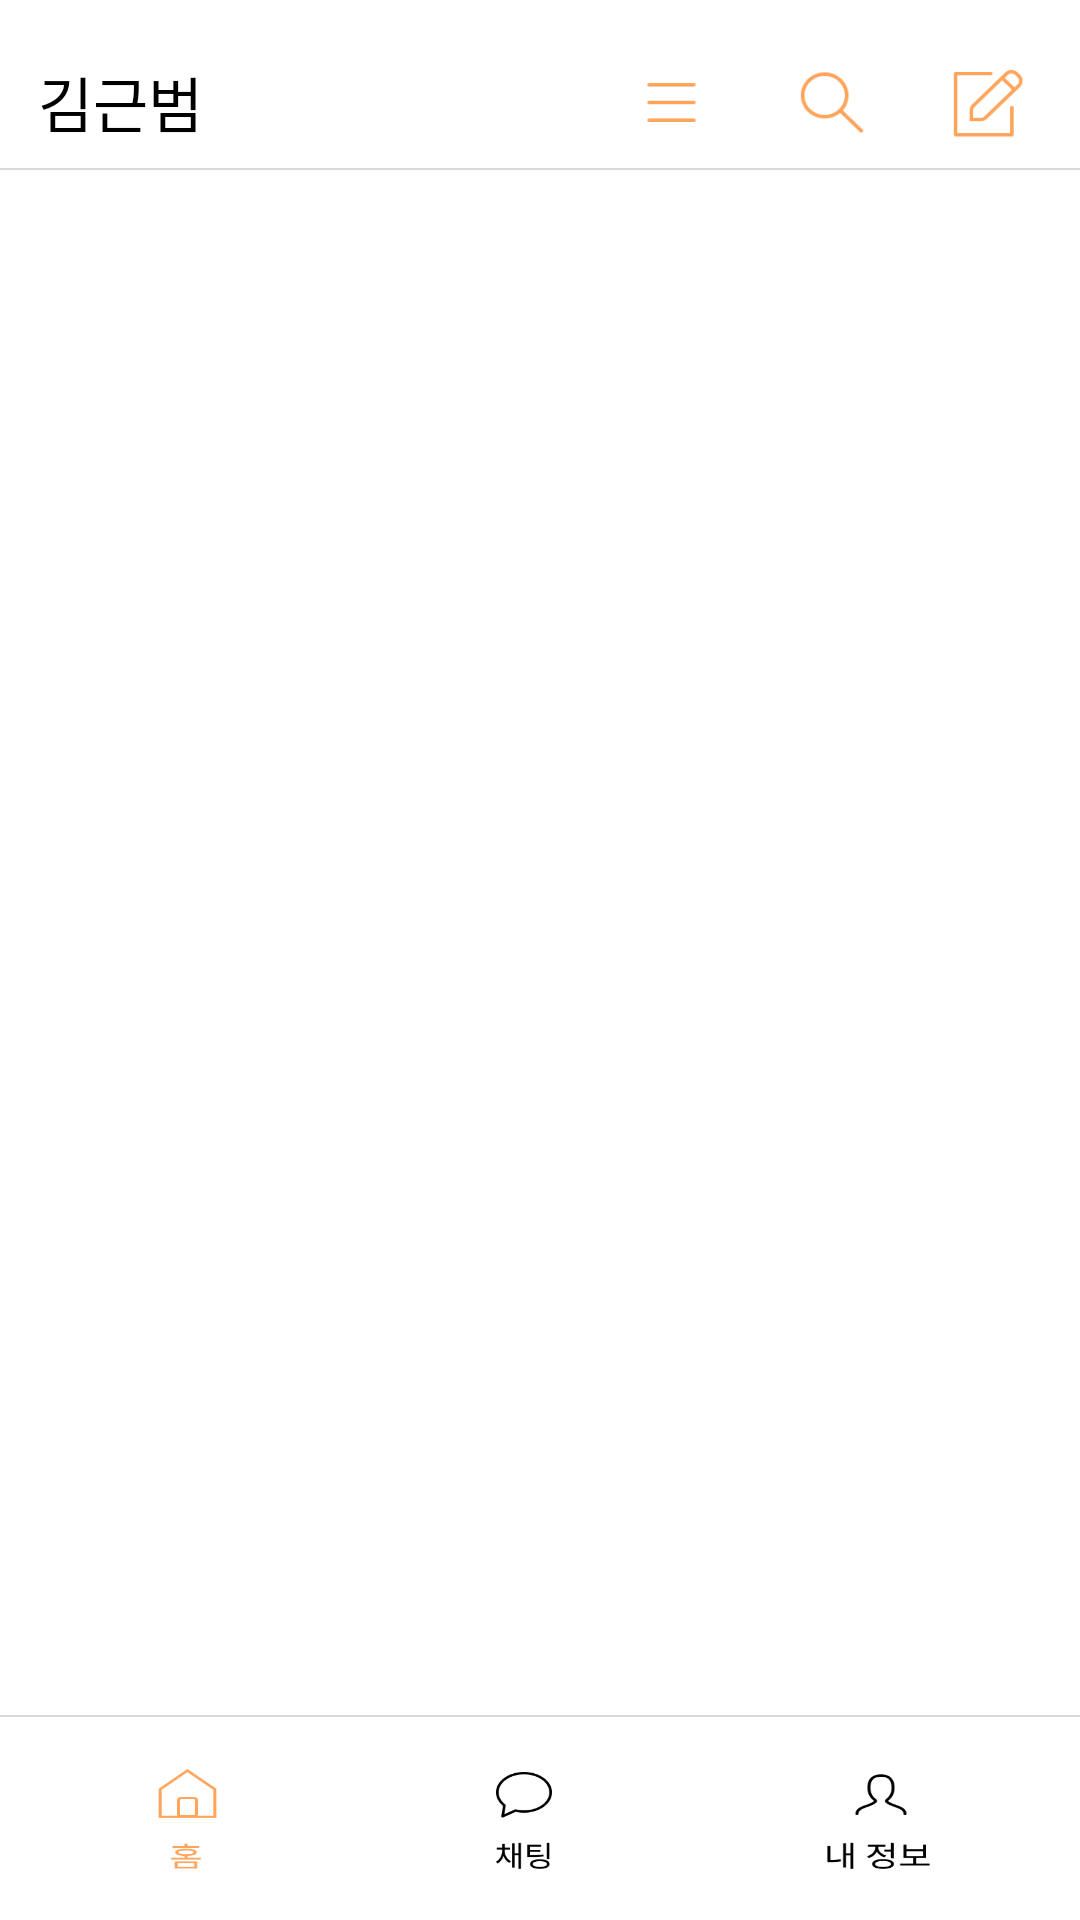

Locate icon controls on the screen. Image size 1080x1920, boxes as (x1, y1, x2, y2).
hamburger: (647, 83, 696, 122)
search: (801, 72, 863, 133)
